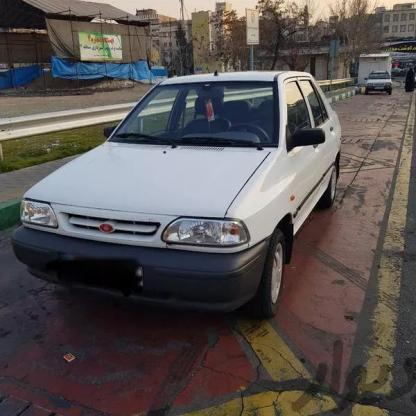Car: (15, 72, 343, 332), (364, 72, 398, 103)
